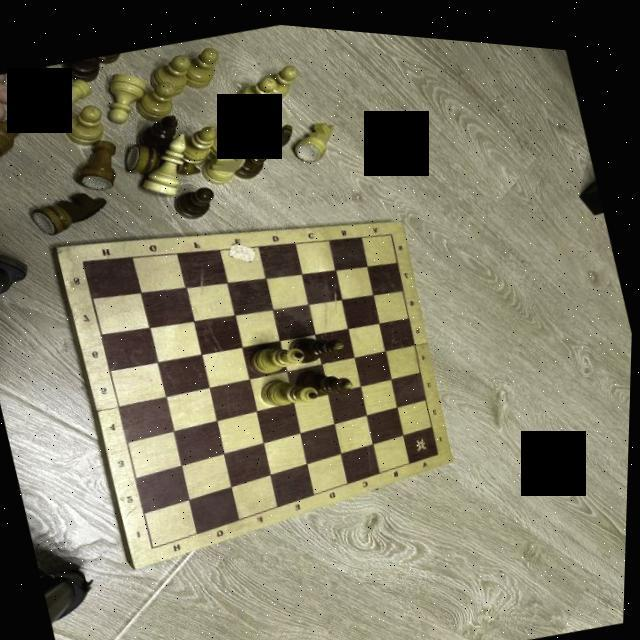chess-table-corners: (151, 540, 161, 549), (79, 256, 88, 264), (387, 223, 395, 231), (434, 442, 443, 449)
